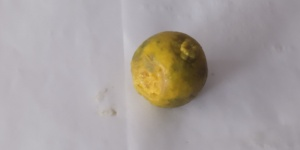BAD: (131, 31, 207, 109)
